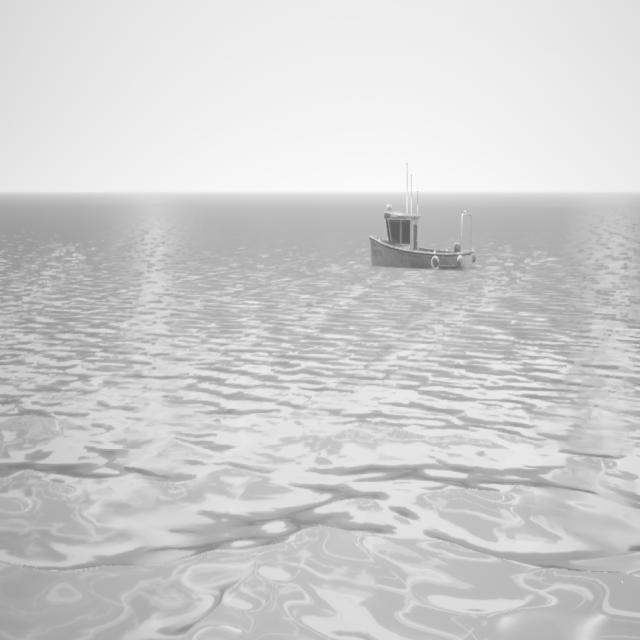ship: (368, 167, 474, 272)
